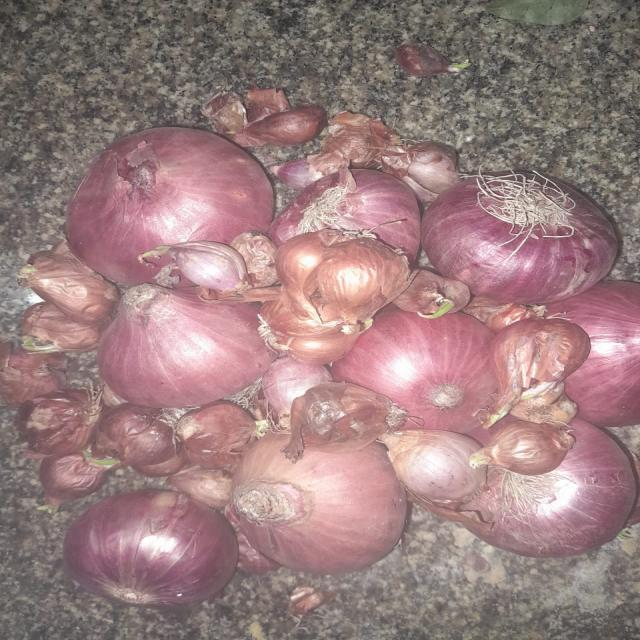sprouting: (417, 296, 458, 320)
